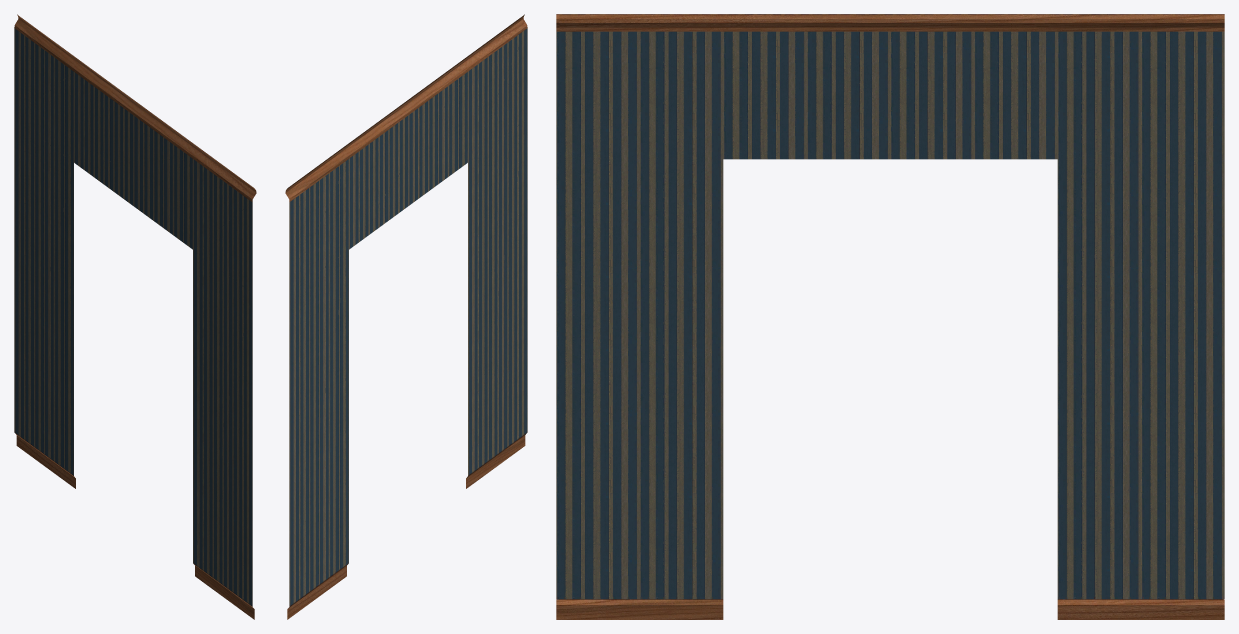
Rendered from blue_stripes_door.dae.
3 renders of one model, left to right at view 1: azimuth 30°, elevation 25°; view 2: azimuth 150°, elevation 25°; view 3: azimuth 270°, elevation 25°, orthographic. The views are drawn at different scales.
Visible parts, largest first — view 1: Plane_001; view 2: Plane_001; view 3: Plane_001.
Boxes of the visible parts, x1,y1,x2,y2 form: Plane_001: [14, 14, 256, 619]; Plane_001: [285, 14, 527, 619]; Plane_001: [556, 14, 1224, 619].
Bounding box in the file's own units: 0.0388 × 4 × 4.
